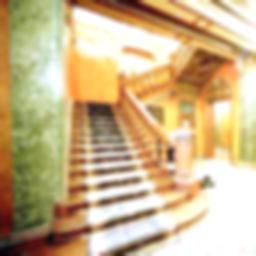Escaleras: (64, 97, 200, 254)
